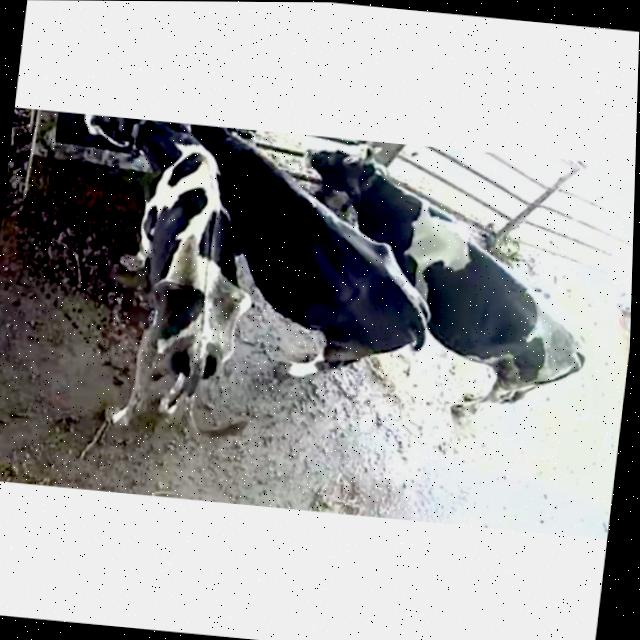drink: (72, 112, 188, 168), (157, 120, 245, 158)
